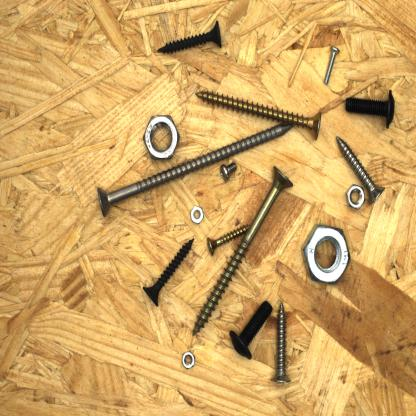screw: (92, 116, 296, 220), (187, 161, 298, 342), (190, 86, 327, 146), (138, 234, 198, 311), (332, 131, 389, 210), (226, 296, 277, 362), (152, 16, 226, 59), (342, 83, 402, 133), (267, 298, 293, 390), (202, 222, 253, 260), (321, 42, 344, 87), (217, 158, 240, 183)
